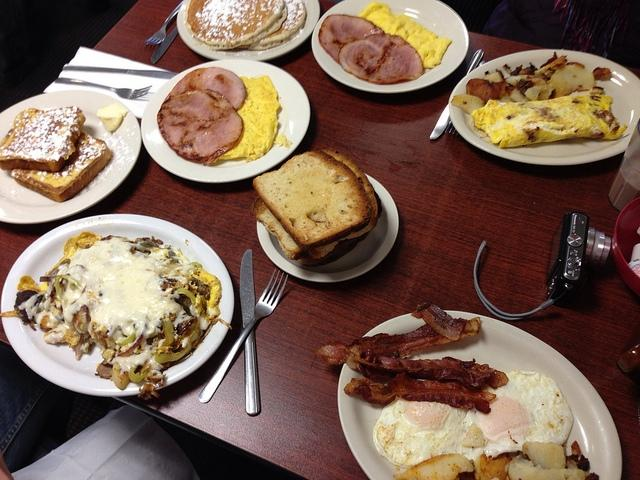potato: (508, 454, 586, 480), (547, 65, 596, 100), (522, 440, 566, 470), (524, 82, 556, 100)
